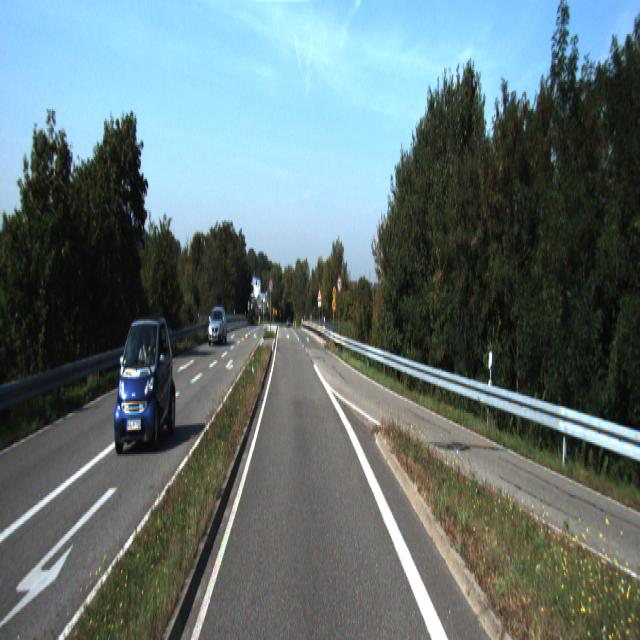Car: (112, 316, 176, 452), (205, 307, 227, 348)
